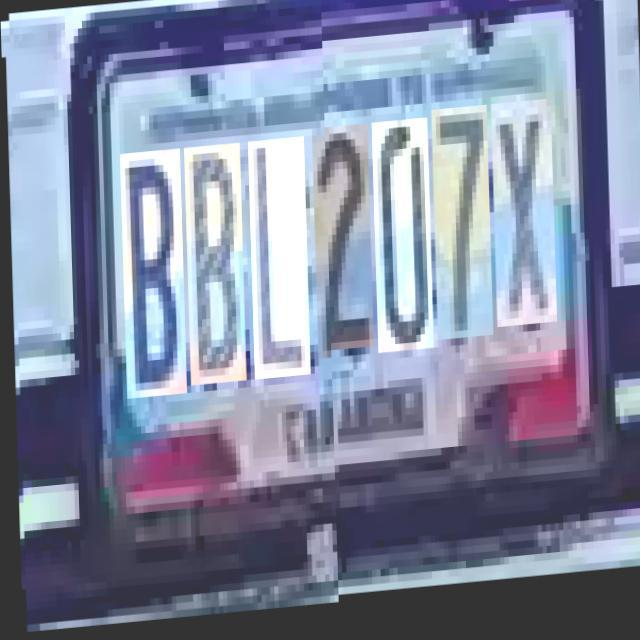0: (371, 127, 432, 360)
2: (311, 130, 372, 358)
7: (430, 114, 491, 348)
B: (119, 145, 184, 394), (183, 140, 244, 382)
L: (247, 136, 308, 378)
X: (490, 110, 555, 338)
